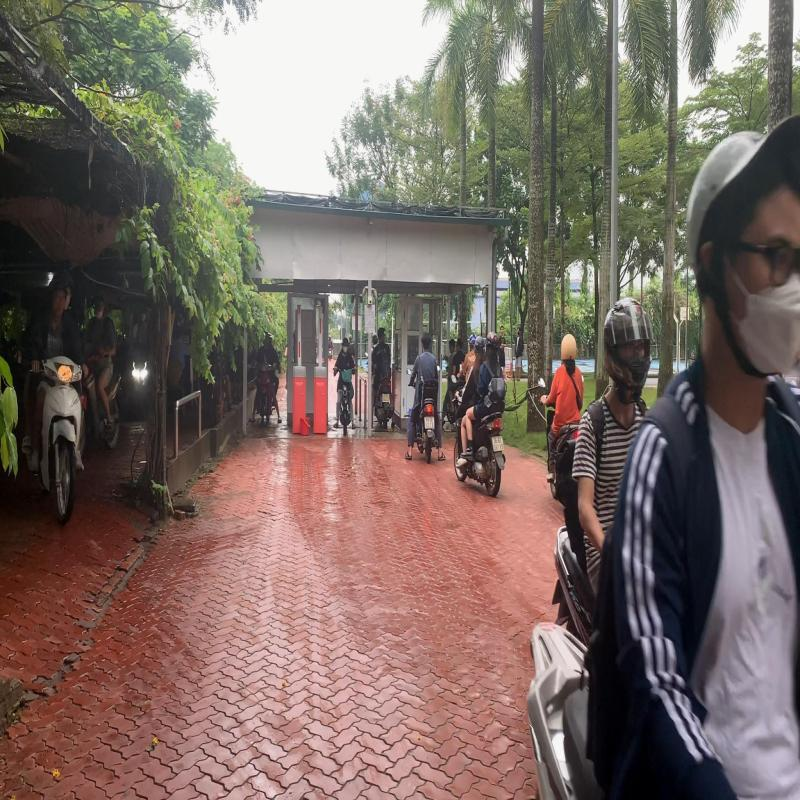nohelmet: (420, 330, 431, 351)
